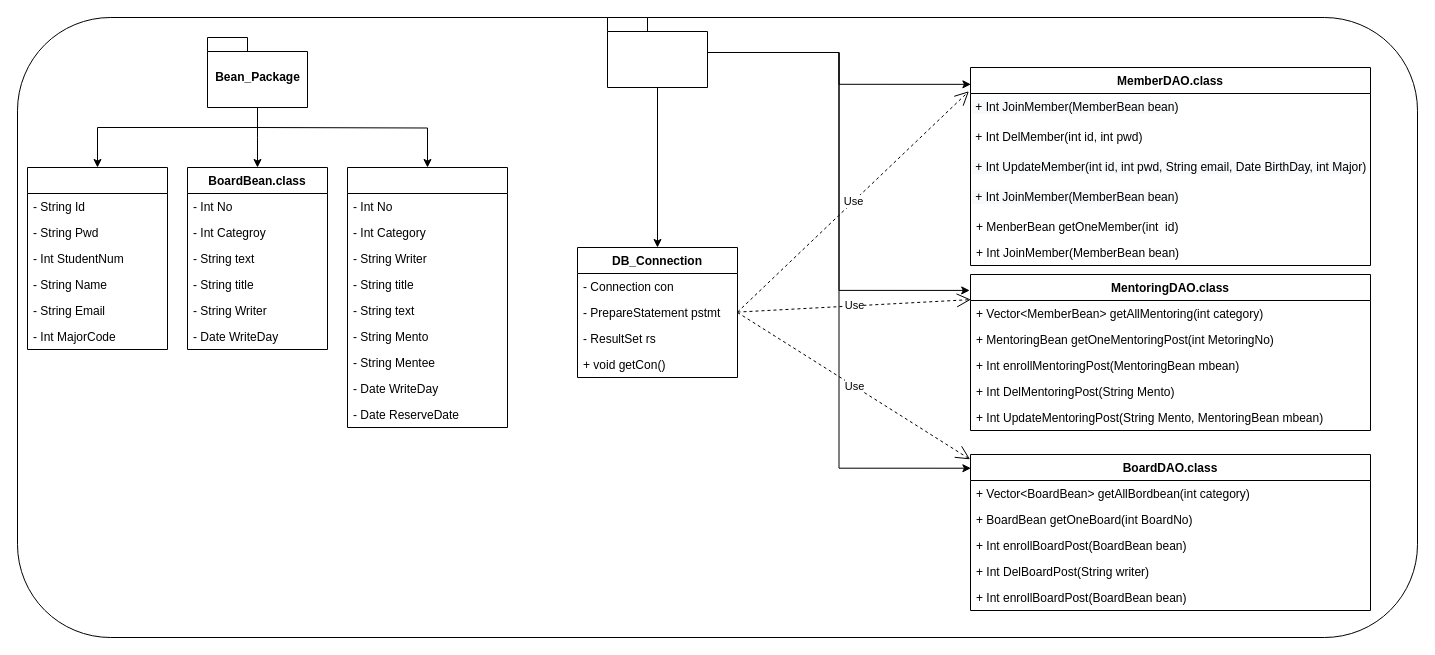
Some shapes in this 1435 by 655 pixel diagram are drawn without their labels. Each missing label, with the box of its shape:
DAO_Package: (606, 16, 708, 88)
MemberBean.class: (26, 166, 168, 350)
MentoringBean.class: (346, 166, 508, 428)
